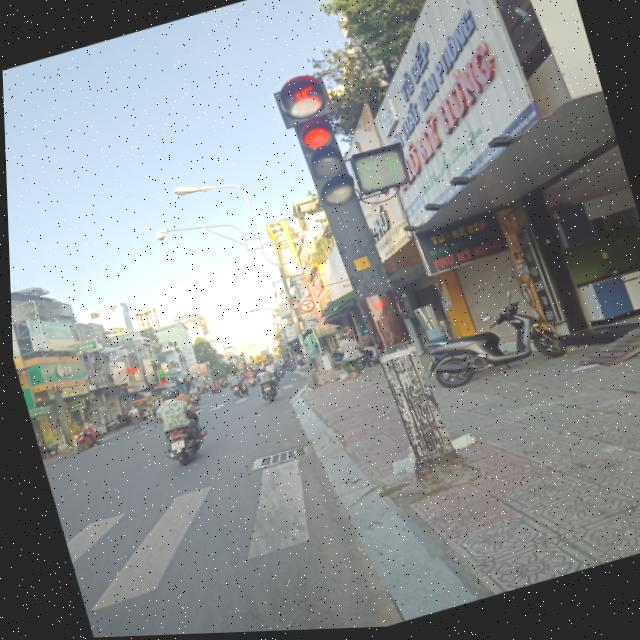Red: (286, 110, 361, 223), (350, 285, 411, 360)
